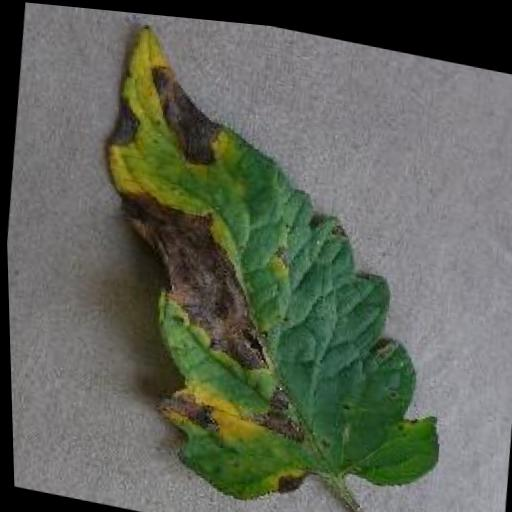Early Blight: (64, 7, 474, 512)
